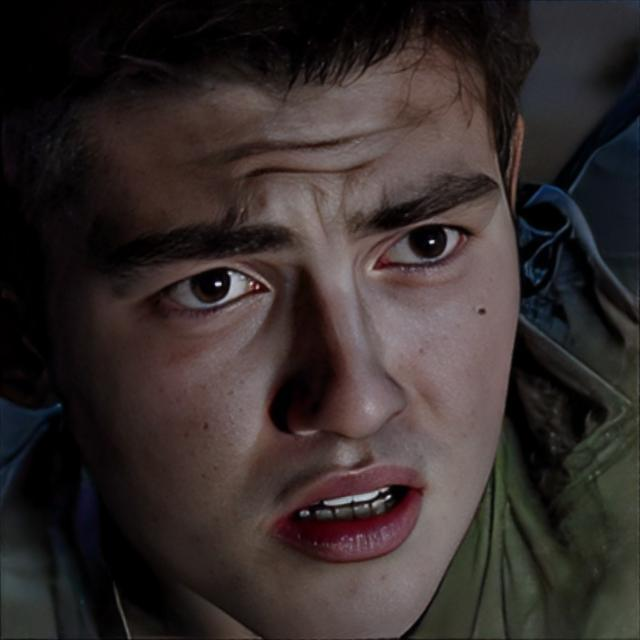Fear: (61, 0, 523, 640)
